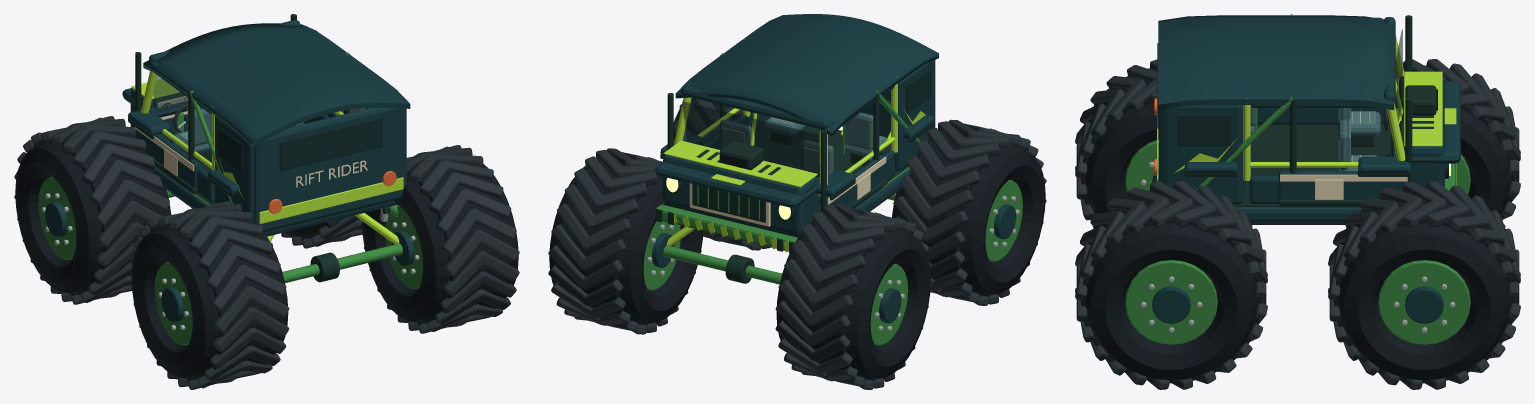
The model's file is truck.glb.
3 views of the same model, side by side, from view 1: azimuth 30°, elevation 25°; view 2: azimuth 150°, elevation 25°; view 3: azimuth 270°, elevation 25° (orthographic). The views are drawn at different scales.
Visible parts, largest first — view 1: CompetitionBody_Paint, RearLRoll_Tread, RearRRoll_Tread, RearLRoll_Rubber, FrontLRoll_Rubber, FrontLRoll_Tread, RearRRoll_Rubber, RaisedBody_Paint, CompetitionBody_Screen, CompetitionBody_Edge, RaisedBody_Dark, FrontLRoll_Steel (+12 smaller); view 2: CompetitionBody_Paint, FrontLRoll_Tread, FrontRRoll_Tread, FrontLRoll_Rubber, RearLRoll_Rubber, RearLRoll_Tread, FrontRRoll_Rubber, RaisedBody_Dark, RaisedBody_Paint, CompetitionBody_Tinted windshield, RaisedBody_Edge, RaisedBody_Steel (+14 smaller); view 3: CompetitionBody_Paint, RearRRoll_Rubber, FrontRRoll_Rubber, RearRRoll_Tread, FrontRRoll_Tread, RaisedBody_Dark, RaisedBody_Paint, FrontRRoll_Steel, RearRRoll_Steel, RearLRoll_Rubber, RearLRoll_Tread, FrontLRoll_Rubber (+14 smaller).
Part boxes in pixels (x1=…): CompetitionBody_Paint: x1=122, y1=20, x2=410, y2=232; RearLRoll_Tread: x1=130, y1=201, x2=289, y2=389; RearRRoll_Tread: x1=361, y1=145, x2=519, y2=333; RearLRoll_Rubber: x1=131, y1=216, x2=288, y2=381; FrontLRoll_Rubber: x1=15, y1=131, x2=171, y2=296; FrontLRoll_Tread: x1=14, y1=116, x2=169, y2=304; RearRRoll_Rubber: x1=362, y1=160, x2=518, y2=325; RaisedBody_Paint: x1=128, y1=89, x2=396, y2=236; CompetitionBody_Screen: x1=217, y1=117, x2=382, y2=173; CompetitionBody_Edge: x1=140, y1=69, x2=403, y2=224; RaisedBody_Dark: x1=128, y1=14, x2=390, y2=213; FrontLRoll_Steel: x1=38, y1=177, x2=76, y2=259; CompetitionBody_Paint: x1=655, y1=14, x2=938, y2=207; FrontLRoll_Tread: x1=775, y1=204, x2=931, y2=389; FrontRRoll_Tread: x1=548, y1=148, x2=703, y2=334; FrontLRoll_Rubber: x1=776, y1=211, x2=930, y2=381; RearLRoll_Rubber: x1=892, y1=127, x2=1045, y2=297; RearLRoll_Tread: x1=893, y1=119, x2=1046, y2=305; FrontRRoll_Rubber: x1=549, y1=155, x2=703, y2=325; RaisedBody_Dark: x1=656, y1=55, x2=934, y2=253; RaisedBody_Paint: x1=660, y1=100, x2=934, y2=237; CompetitionBody_Tinted windshield: x1=682, y1=101, x2=819, y2=178; RaisedBody_Edge: x1=663, y1=140, x2=817, y2=252; RaisedBody_Steel: x1=656, y1=53, x2=920, y2=250; CompetitionBody_Paint: x1=1158, y1=15, x2=1460, y2=204; RearRRoll_Rubber: x1=1080, y1=187, x2=1262, y2=383; FrontRRoll_Rubber: x1=1333, y1=187, x2=1515, y2=383; RearRRoll_Tread: x1=1075, y1=181, x2=1267, y2=389; FrontRRoll_Tread: x1=1328, y1=181, x2=1520, y2=389; RaisedBody_Dark: x1=1184, y1=15, x2=1448, y2=224; RaisedBody_Paint: x1=1184, y1=76, x2=1444, y2=222; FrontRRoll_Steel: x1=1378, y1=260, x2=1470, y2=345; RearRRoll_Steel: x1=1125, y1=260, x2=1217, y2=345; RearLRoll_Rubber: x1=1080, y1=68, x2=1158, y2=214; RearLRoll_Tread: x1=1075, y1=59, x2=1252, y2=227; FrontLRoll_Rubber: x1=1381, y1=65, x2=1515, y2=219.
Bounding box in the file's own units: 6.71 × 4.96 × 7.4.
